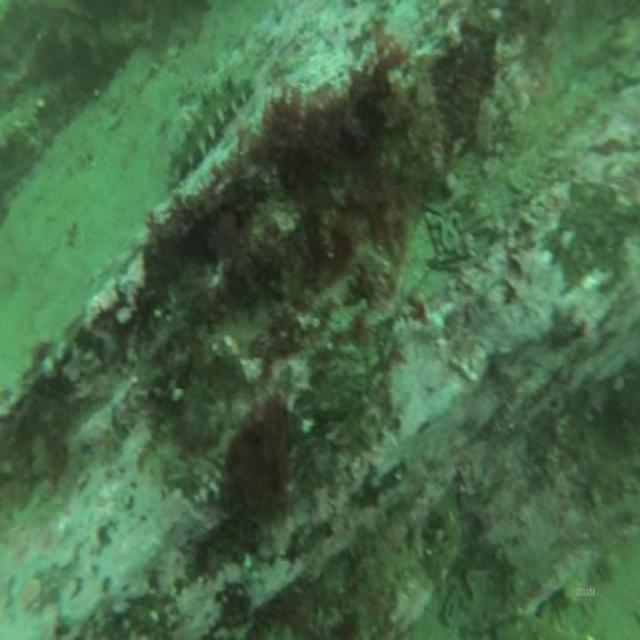holothurian: (151, 72, 258, 186), (428, 488, 467, 590)
